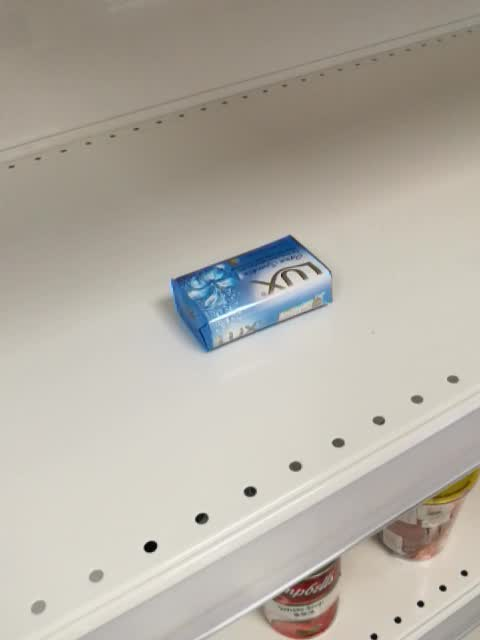soap: (169, 233, 335, 354)
